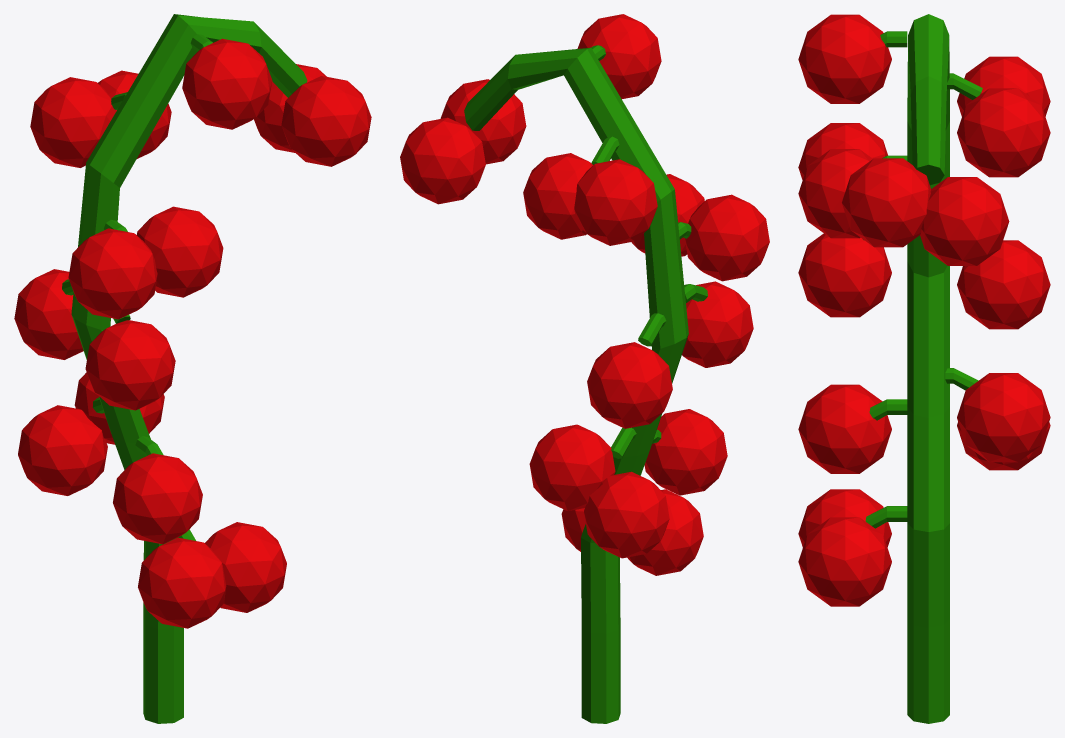
The model's file is Tomato.fbx.
3 renders of one model, left to right at view 1: azimuth 30°, elevation 25°; view 2: azimuth 150°, elevation 25°; view 3: azimuth 270°, elevation 25°, orthographic. The views are drawn at different scales.
Parts seen in each view (by area): view 1: Cylinder; view 2: Cylinder; view 3: Cylinder.
Part boxes in pixels (x1=…): Cylinder: x1=14, y1=14, x2=371, y2=723; Cylinder: x1=400, y1=14, x2=769, y2=723; Cylinder: x1=798, y1=14, x2=1050, y2=723.
Bounding box in the file's own units: 135 × 284 × 91.48.
